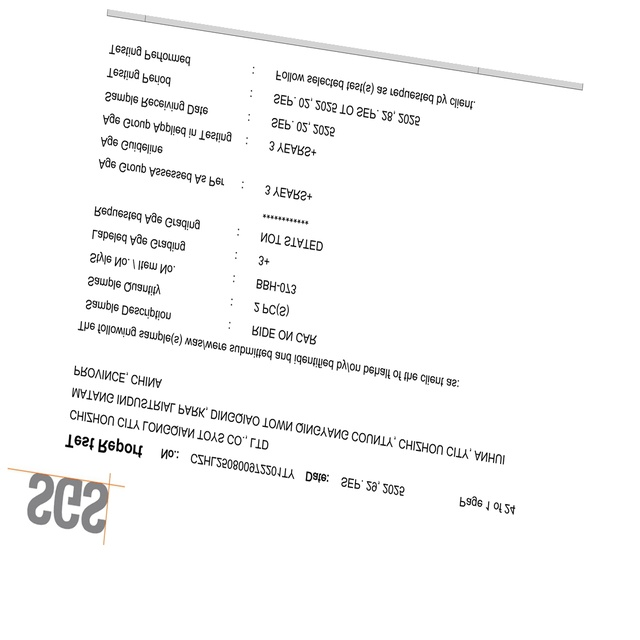sgs: (27, 472, 108, 534)
